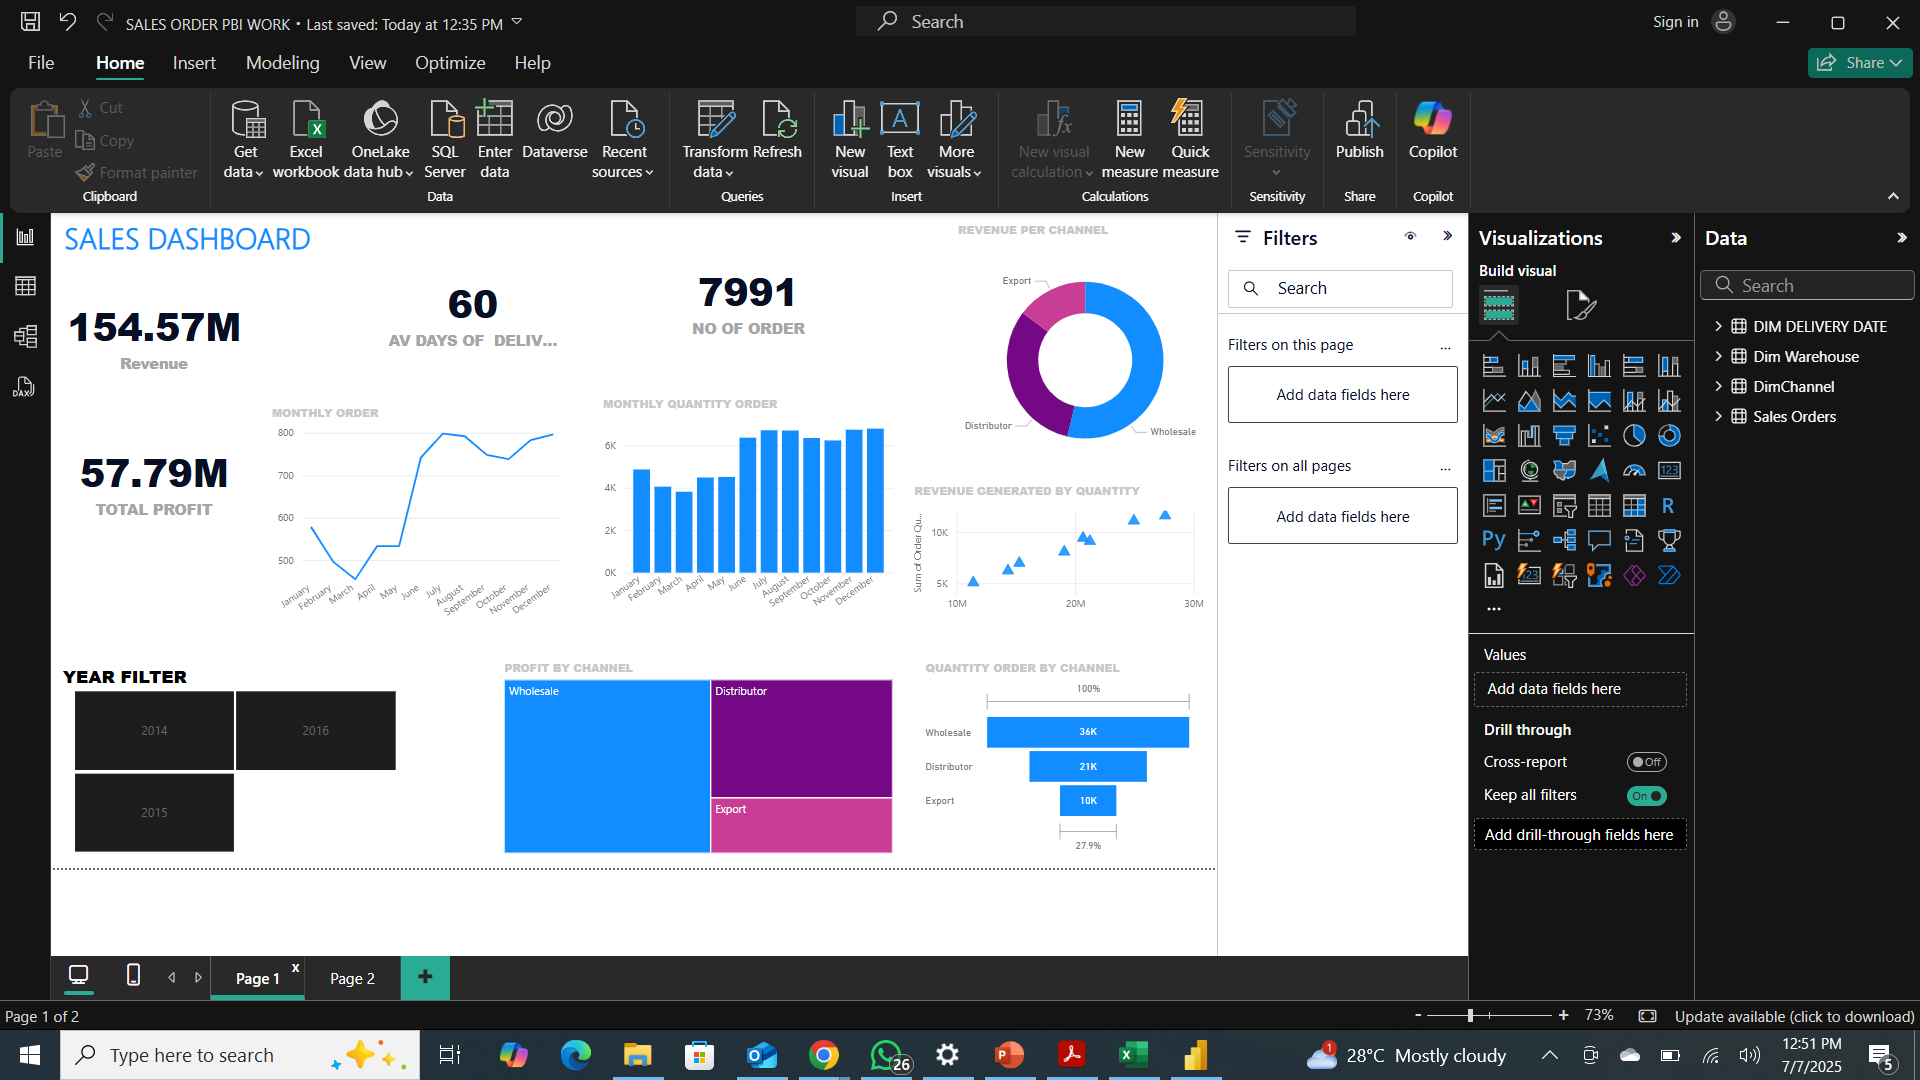

Layout of this report page (visuals, bound fields, positions):
{"tool":"powerbi","page":{"name":"Page 2","canvas":[1280,720],"ordinal":0},"visuals":[{"type":"textbox","box":[9.6,0,430.9,70],"z":0},{"type":"card","fields":{"Values":["Sum(Sales Orders.Total Revenue)"]},"box":[11,60.4,204.5,149.6],"z":1000},{"type":"card","fields":{"Values":["Sum(Sales Orders.PRO PROFIT)"]},"box":[11,220.9,204.5,149.6],"z":2000},{"type":"card","fields":{"Values":["Sales Orders.NO OF ORDER"]},"box":[672.4,22,186.6,149.6],"z":3000},{"type":"card","fields":{"Values":["Sales Orders.AV DELIVERY"]},"box":[360.9,35.7,204.5,149.6],"z":4000},{"type":"lineChart","title":"MONTHLY ORDER","fields":{"Y":["Sales Orders.NO OF ORDER"],"Category":["Sales Orders.OrderDate.Variation.Date Hierarchy.Month"]},"box":[237.4,209.9,328,245.6],"z":5000},{"type":"donutChart","title":"REVENUE PER CHANNEL","fields":{"Category":["DimChannel.Channel"],"Y":["Sum(Sales Orders.Total Revenue)"]},"box":[990.7,9.6,289.5,286.8],"z":6000},{"type":"clusteredColumnChart","title":"MONTHLY QUANTITY ORDER","fields":{"Category":["Sales Orders.OrderDate.Variation.Date Hierarchy.Month"],"Y":["Sum(Sales Orders.Order Quantity)"]},"box":[601,200.3,328,245.6],"z":7000},{"type":"scatterChart","title":"REVENUE GENERATED BY QUANTITY","fields":{"Category":["Sales Orders.Order Quantity"],"X":["Sum(Sales Orders.Total Revenue)"],"Y":["Sum(Sales Orders.Order Quantity)"]},"box":[942.7,296.4,328,149.6],"z":8000},{"type":"funnel","title":" QUANTITY ORDER BY CHANNEL","fields":{"Y":["Sum(Sales Orders.Order Quantity)"],"Category":["DimChannel.Channel"]},"box":[955.1,489.9,304.6,218.2],"z":9000},{"type":"treemap","title":"PROFIT BY CHANNEL","fields":{"Values":["Sum(Sales Orders.PRO PROFIT)"],"Group":["DimChannel.Channel"]},"box":[492.6,489.9,436.4,218.2],"z":10000},{"type":"slicer","fields":{"Values":["Sales Orders.OrderDate.Variation.Date Hierarchy.Year"]},"box":[0,489.9,402.1,218.2],"z":11000}]}

Visuals, with their boxes on the page's 1280x720 design canvas (x1, y1, x2, y2). These are canvas units, not pixel positions in the 1920x1080 screenshot, which may show the page scaled, cropped or inside an application window:
textbox: (10,0,440,70)
card - Sum(Sales Orders.Total Revenue): (11,60,216,210)
card - Sum(Sales Orders.PRO PROFIT): (11,221,216,370)
card - Sales Orders.NO OF ORDER: (672,22,859,172)
card - Sales Orders.AV DELIVERY: (361,36,565,185)
"MONTHLY ORDER" lineChart: (237,210,565,456)
"REVENUE PER CHANNEL" donutChart: (991,10,1280,296)
"MONTHLY QUANTITY ORDER" clusteredColumnChart: (601,200,929,446)
"REVENUE GENERATED BY QUANTITY" scatterChart: (943,296,1271,446)
" QUANTITY ORDER BY CHANNEL" funnel: (955,490,1260,708)
"PROFIT BY CHANNEL" treemap: (493,490,929,708)
slicer - Sales Orders.OrderDate.Variation.Date Hierarchy.Year: (0,490,402,708)
